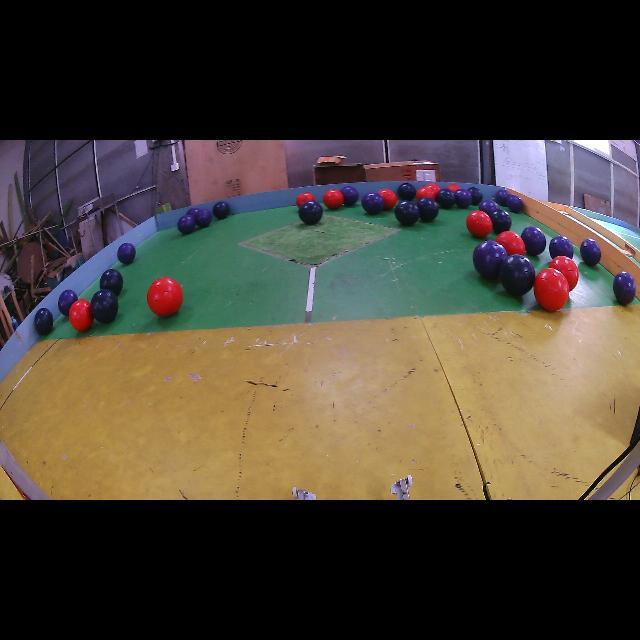B: (499, 255, 535, 295), (90, 289, 119, 323), (612, 271, 636, 305), (395, 201, 420, 226), (100, 269, 124, 295), (299, 201, 322, 225), (490, 209, 511, 234), (35, 308, 54, 335), (418, 198, 439, 221), (436, 189, 455, 209), (212, 201, 230, 220), (398, 182, 416, 200), (469, 188, 482, 205)
P: (472, 240, 508, 279), (521, 226, 546, 256), (549, 235, 574, 259), (580, 239, 601, 266), (361, 192, 385, 215), (58, 290, 78, 316), (118, 242, 136, 264), (340, 186, 359, 206), (454, 189, 472, 209), (178, 215, 196, 235), (195, 209, 212, 228), (506, 195, 524, 212), (479, 200, 499, 215), (495, 190, 510, 206), (186, 208, 200, 219)
R: (534, 268, 570, 311), (148, 278, 182, 316), (550, 255, 579, 291), (69, 299, 94, 331), (466, 210, 492, 238), (496, 231, 525, 255), (322, 189, 344, 209), (379, 189, 398, 209), (296, 192, 315, 208), (416, 186, 436, 200), (428, 184, 440, 194), (448, 184, 460, 192)
